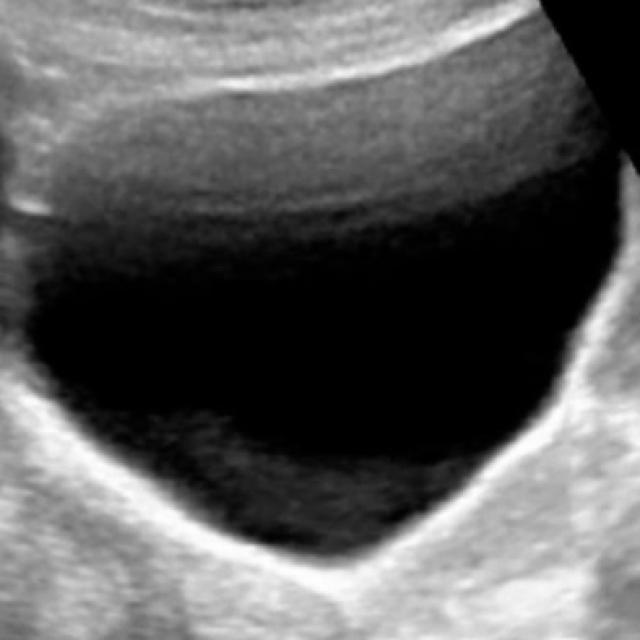bladder: (8, 8, 638, 605)
